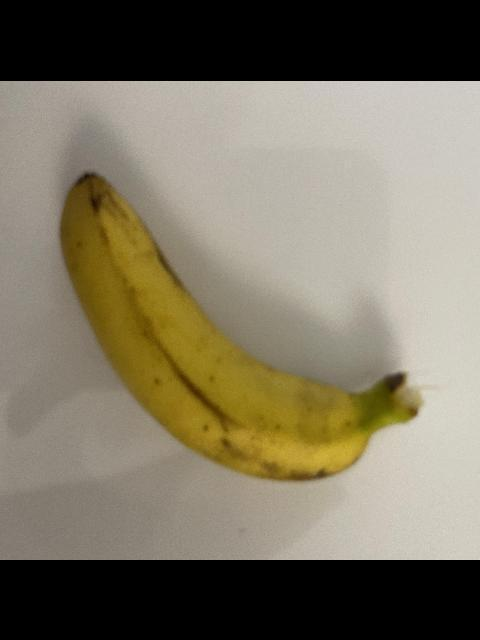banana: (56, 172, 426, 480)
